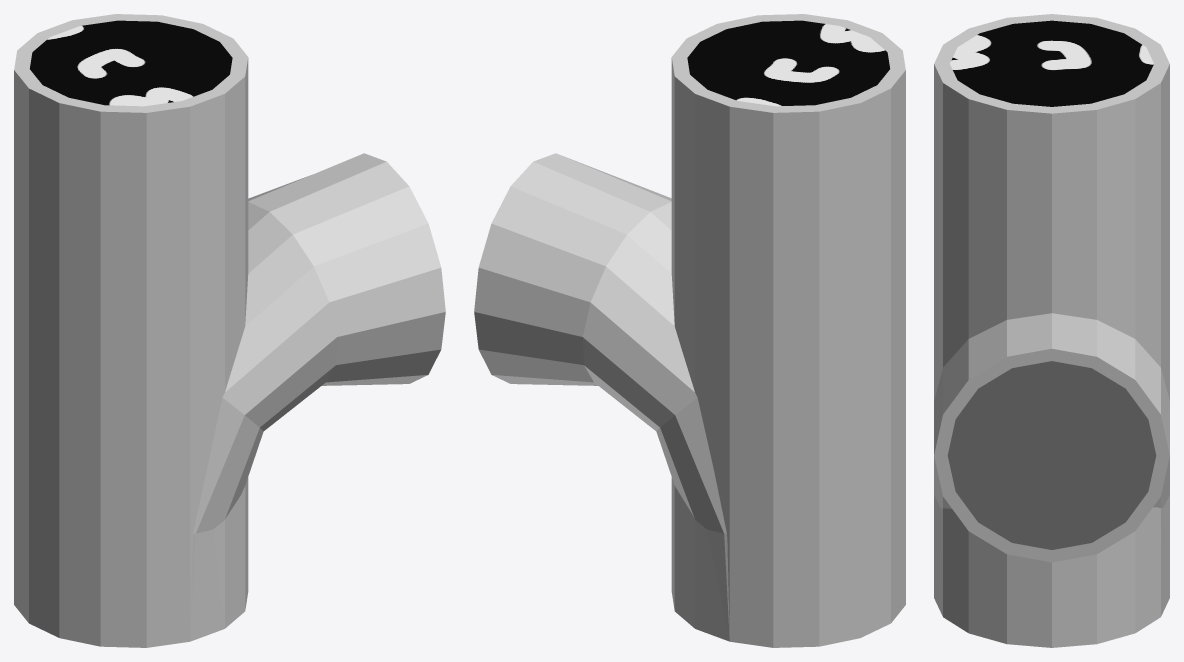
Rendered from cables.fbx.
3 renders of one model, left to right at view 1: azimuth 30°, elevation 25°; view 2: azimuth 150°, elevation 25°; view 3: azimuth 270°, elevation 25°, orthographic.
Parts seen in each view (by area): view 1: Cylinder.005, Cylinder.006; view 2: Cylinder.005, Cylinder.006; view 3: Cylinder.005, Cylinder.006.
Boxes of the visible parts, x1,y1,x2,y2 form: Cylinder.005: [14, 14, 248, 647]; Cylinder.006: [190, 153, 445, 641]; Cylinder.005: [671, 14, 905, 647]; Cylinder.006: [474, 153, 729, 639]; Cylinder.005: [934, 14, 1169, 647]; Cylinder.006: [934, 313, 1169, 616].
Bounding box in the file's own units: 40 × 70 × 100.
